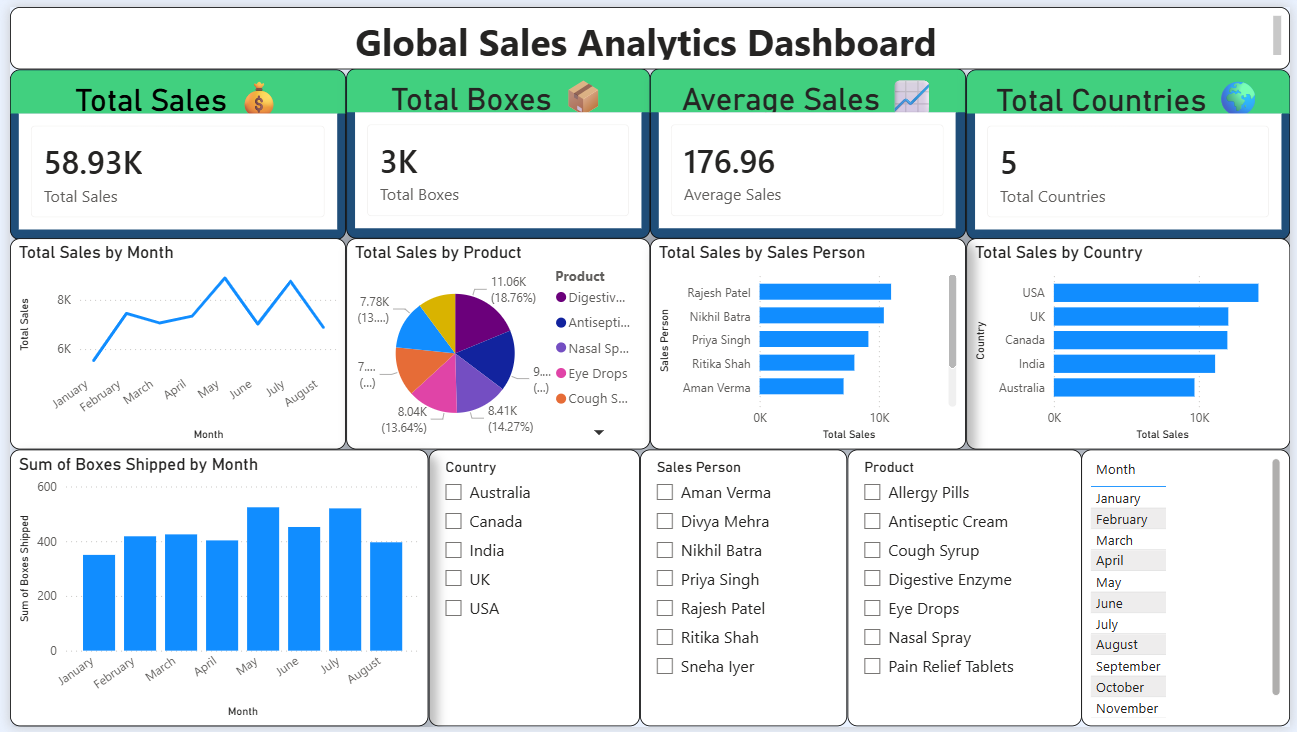

Layout of this report page (visuals, bound fields, positions):
{"tool":"powerbi","page":{"name":"Page 1","canvas":[1280,720],"ordinal":0},"visuals":[{"type":"cardVisual","title":"Total Sales 💰","fields":{"Data":["pharma_sales.Total Sales"]},"box":[0,62,336,170],"z":0},{"type":"cardVisual","title":"Total Boxes 📦","fields":{"Data":["pharma_sales.Total Boxes"]},"box":[335.7,61.4,304.3,170],"z":1000},{"type":"cardVisual","title":"Average Sales 📈","fields":{"Data":["pharma_sales.Average Sales"]},"box":[640,61.4,315.7,170],"z":2000},{"type":"cardVisual","title":"Total Countries 🌍","fields":{"Data":["pharma_sales.Total Countries"]},"box":[956,62,324,170],"z":3000},{"type":"lineChart","fields":{"Category":["pharma_sales.Date.Variation.Date Hierarchy.Month","pharma_sales.Date.Variation.Date Hierarchy.Day"],"Y":["pharma_sales.Total Sales"]},"box":[0,231.4,335.7,211.4],"z":4000},{"type":"clusteredBarChart","fields":{"Category":["pharma_sales.Country"],"Y":["pharma_sales.Total Sales"]},"box":[955.7,231.4,324.3,211.4],"z":4001},{"type":"pieChart","fields":{"Category":["pharma_sales.Product"],"Y":["pharma_sales.Total Sales"]},"box":[335.7,231.4,304.3,211.4],"z":4002},{"type":"barChart","fields":{"Category":["pharma_sales.Sales Person"],"Y":["pharma_sales.Total Sales"]},"box":[640,231.4,315.7,211.4],"z":4003},{"type":"slicer","fields":{"Values":["pharma_sales.Country"]},"box":[418.6,442.9,211.4,277.1],"z":4004},{"type":"slicer","fields":{"Values":["pharma_sales.Product"]},"box":[837.1,442.9,234.3,277.1],"z":4005},{"type":"slicer","fields":{"Values":["pharma_sales.Sales Person"]},"box":[630,442.9,207.1,277.1],"z":4006},{"type":"tableEx","fields":{"Values":["pharma_sales.Date.Variation.Date Hierarchy.Month"]},"box":[1071.4,442.9,208.6,277.1],"z":4007},{"type":"textbox","box":[0,0,1280,62],"z":4008},{"type":"columnChart","fields":{"Category":["pharma_sales.Date.Variation.Date Hierarchy.Month","pharma_sales.Date.Variation.Date Hierarchy.Day"],"Y":["Sum(pharma_sales.Boxes Shipped)"]},"box":[0,442.9,418.6,277.1],"z":4009}]}

Visuals, with their boxes in screenshot pixels (x1, y1, x2, y2), scaled from the page's 1280x720 canvas onto the 1297x732 screenshot:
"Total Sales 💰" cardVisual: {"x1": 0, "y1": 63, "x2": 340, "y2": 236}
"Total Boxes 📦" cardVisual: {"x1": 340, "y1": 62, "x2": 648, "y2": 235}
"Average Sales 📈" cardVisual: {"x1": 648, "y1": 62, "x2": 968, "y2": 235}
"Total Countries 🌍" cardVisual: {"x1": 969, "y1": 63, "x2": 1296, "y2": 236}
lineChart - pharma_sales.Date.Variation.Date Hierarchy.Month x pharma_sales.Date.Variation.Date Hierarchy.Day: {"x1": 0, "y1": 235, "x2": 340, "y2": 450}
clusteredBarChart - pharma_sales.Country x pharma_sales.Total Sales: {"x1": 968, "y1": 235, "x2": 1296, "y2": 450}
pieChart - pharma_sales.Product x pharma_sales.Total Sales: {"x1": 340, "y1": 235, "x2": 648, "y2": 450}
barChart - pharma_sales.Sales Person x pharma_sales.Total Sales: {"x1": 648, "y1": 235, "x2": 968, "y2": 450}
slicer - pharma_sales.Country: {"x1": 424, "y1": 450, "x2": 638, "y2": 731}
slicer - pharma_sales.Product: {"x1": 848, "y1": 450, "x2": 1086, "y2": 731}
slicer - pharma_sales.Sales Person: {"x1": 638, "y1": 450, "x2": 848, "y2": 731}
tableEx - pharma_sales.Date.Variation.Date Hierarchy.Month: {"x1": 1086, "y1": 450, "x2": 1296, "y2": 731}
textbox: {"x1": 0, "y1": 0, "x2": 1296, "y2": 63}
columnChart - pharma_sales.Date.Variation.Date Hierarchy.Month x pharma_sales.Date.Variation.Date Hierarchy.Day: {"x1": 0, "y1": 450, "x2": 424, "y2": 731}
